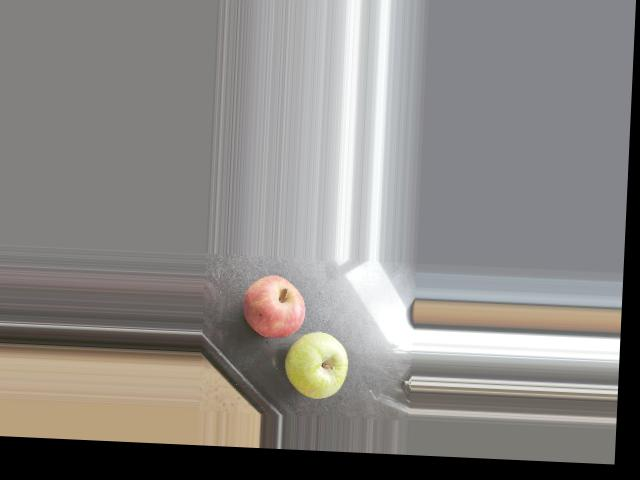apple: (238, 271, 309, 336)
